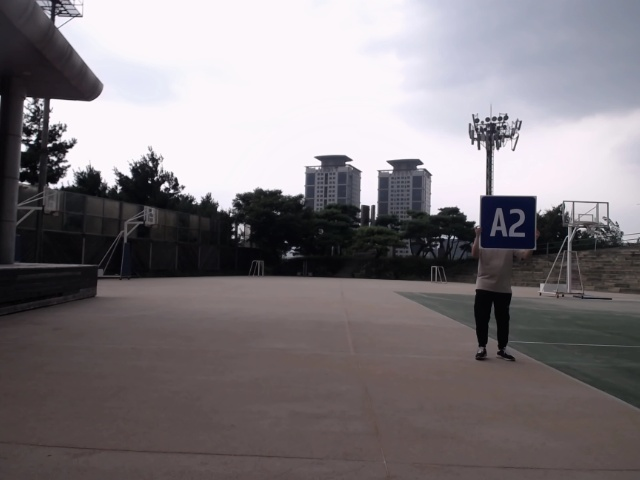delivery_a2: (480, 195, 537, 250)
